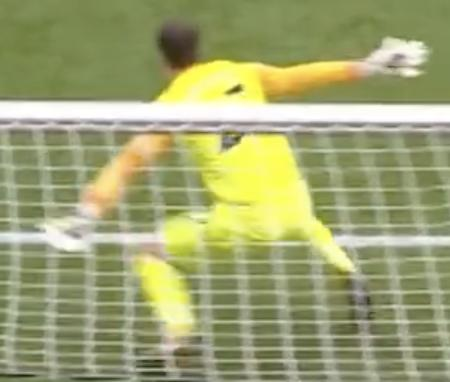goalkeeper: (28, 8, 431, 356)
